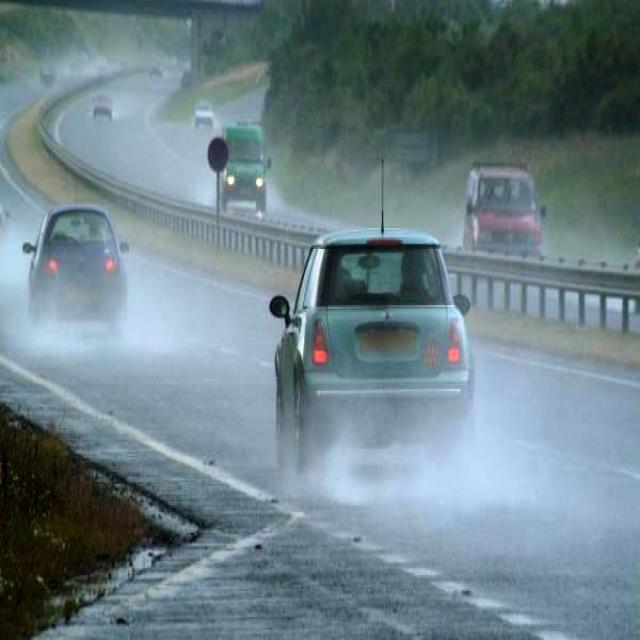car: (266, 230, 474, 508), (22, 202, 126, 330), (463, 163, 544, 251), (218, 124, 271, 216), (193, 98, 213, 128), (93, 88, 113, 116)
